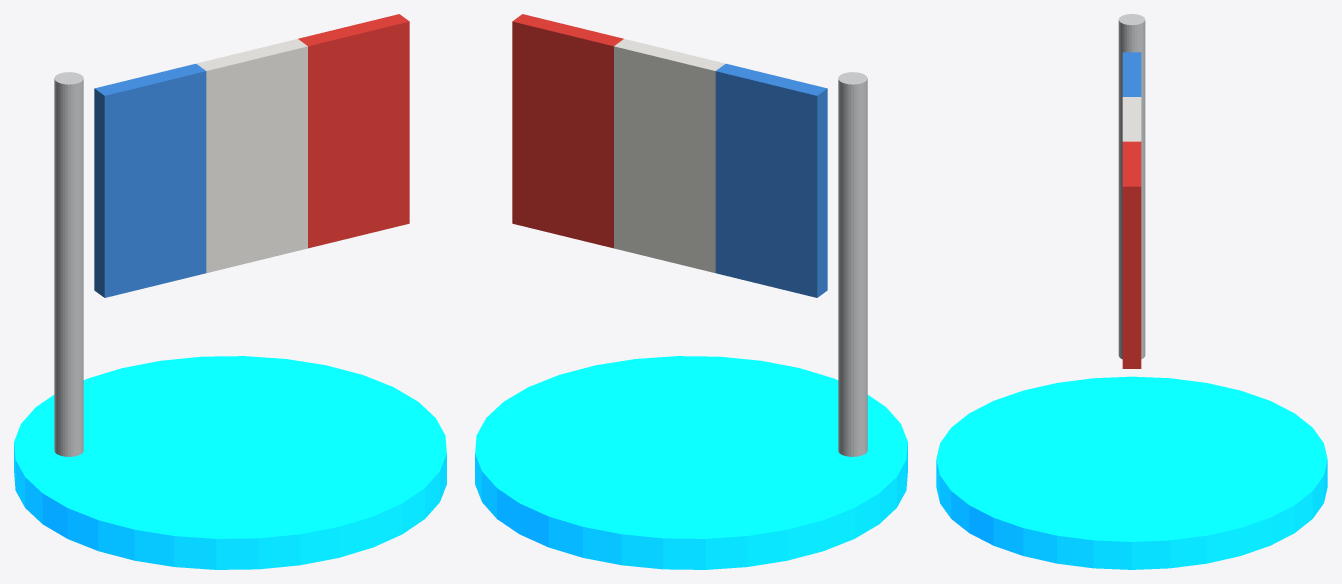
The model's file is french_french_flag.glb.
The picture shows the model from 3 angles, left to right: view 1: azimuth 30°, elevation 25°; view 2: azimuth 150°, elevation 25°; view 3: azimuth 270°, elevation 25°; orthographic projection. The views are drawn at different scales.
Parts seen in each view (by area): view 1: 10_02_Popular_French_French_Flag_ROOT_base, 10_02_Popular_French_French_Flag_part_02, 10_02_Popular_French_French_Flag_part_04, 10_02_Popular_French_French_Flag_part_03, 10_02_Popular_French_French_Flag_part_01; view 2: 10_02_Popular_French_French_Flag_ROOT_base, 10_02_Popular_French_French_Flag_part_02, 10_02_Popular_French_French_Flag_part_04, 10_02_Popular_French_French_Flag_part_03, 10_02_Popular_French_French_Flag_part_01; view 3: 10_02_Popular_French_French_Flag_ROOT_base, 10_02_Popular_French_French_Flag_part_04, 10_02_Popular_French_French_Flag_part_01, 10_02_Popular_French_French_Flag_part_02, 10_02_Popular_French_French_Flag_part_03.
Boxes of the visible parts, bbox=[...] form: 10_02_Popular_French_French_Flag_ROOT_base: bbox=[14, 356, 446, 569]; 10_02_Popular_French_French_Flag_part_02: bbox=[94, 63, 206, 297]; 10_02_Popular_French_French_Flag_part_04: bbox=[298, 14, 409, 248]; 10_02_Popular_French_French_Flag_part_03: bbox=[196, 39, 307, 272]; 10_02_Popular_French_French_Flag_part_01: bbox=[54, 72, 83, 456]; 10_02_Popular_French_French_Flag_ROOT_base: bbox=[475, 356, 907, 569]; 10_02_Popular_French_French_Flag_part_02: bbox=[715, 63, 827, 297]; 10_02_Popular_French_French_Flag_part_04: bbox=[512, 14, 623, 248]; 10_02_Popular_French_French_Flag_part_03: bbox=[614, 39, 725, 272]; 10_02_Popular_French_French_Flag_part_01: bbox=[838, 72, 867, 456]; 10_02_Popular_French_French_Flag_ROOT_base: bbox=[936, 376, 1327, 569]; 10_02_Popular_French_French_Flag_part_04: bbox=[1122, 141, 1141, 368]; 10_02_Popular_French_French_Flag_part_01: bbox=[1118, 14, 1145, 359]; 10_02_Popular_French_French_Flag_part_02: bbox=[1122, 52, 1141, 96]; 10_02_Popular_French_French_Flag_part_03: bbox=[1122, 97, 1141, 141].
Size of the model in its own units: 0.76 by 0.85 by 0.76.
